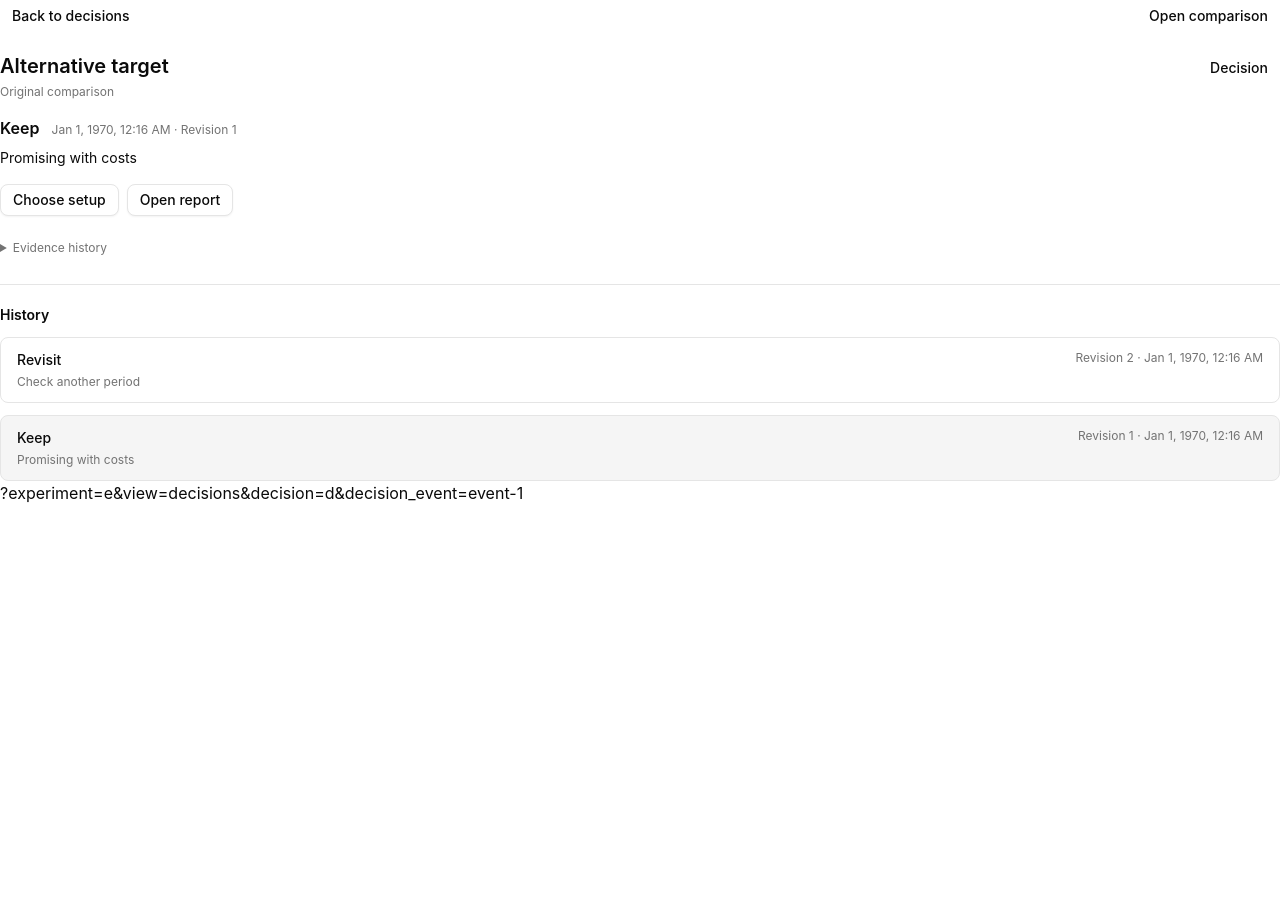
it: saved decisions and exact history › selects the new saved revision immediately while preserving its prior history
Click the button with aria-label "Decision for Alternative target" at (1239, 68), box [1198, 52, 1279, 84]
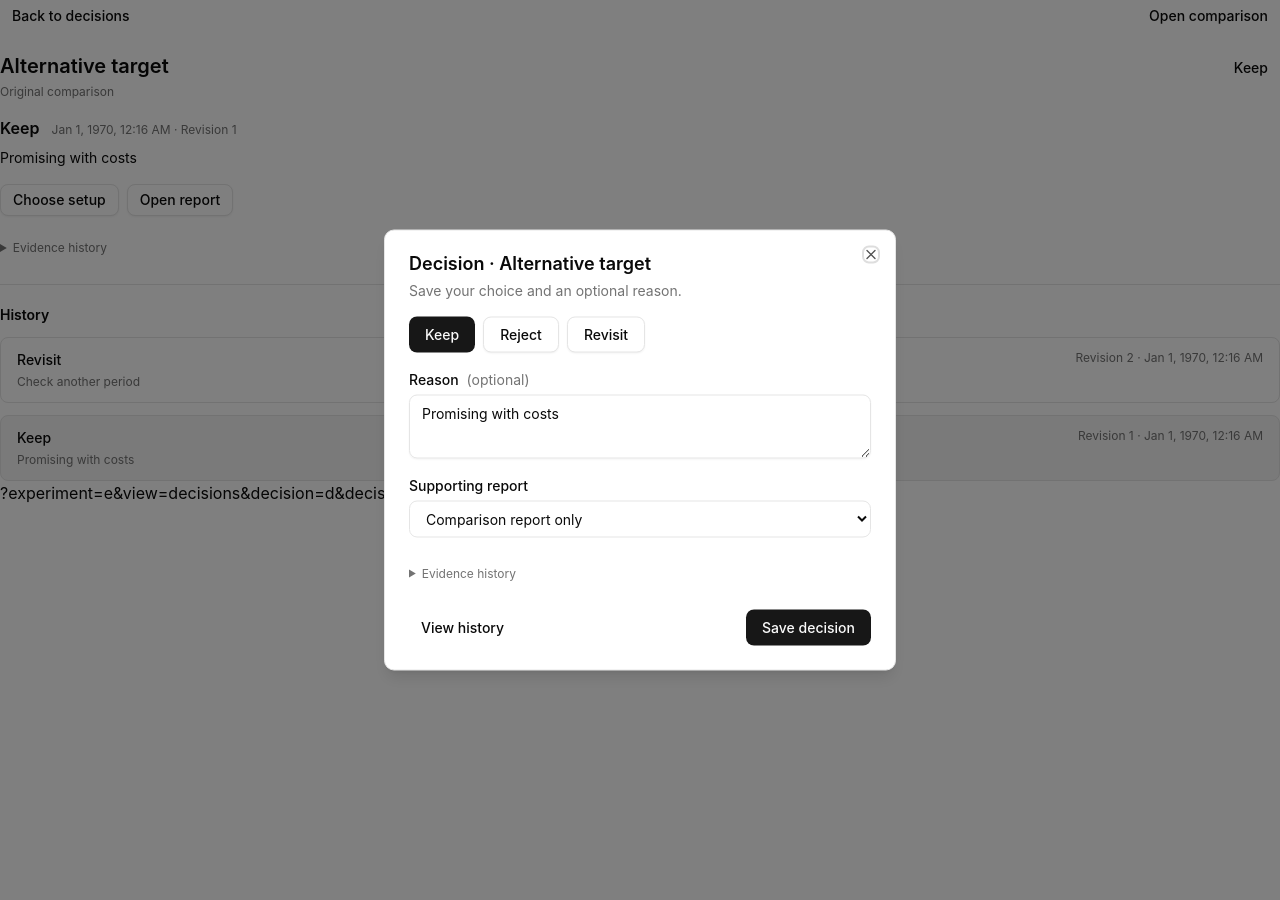
Click the button "Revisit" at (606, 334), box [567, 316, 645, 352]
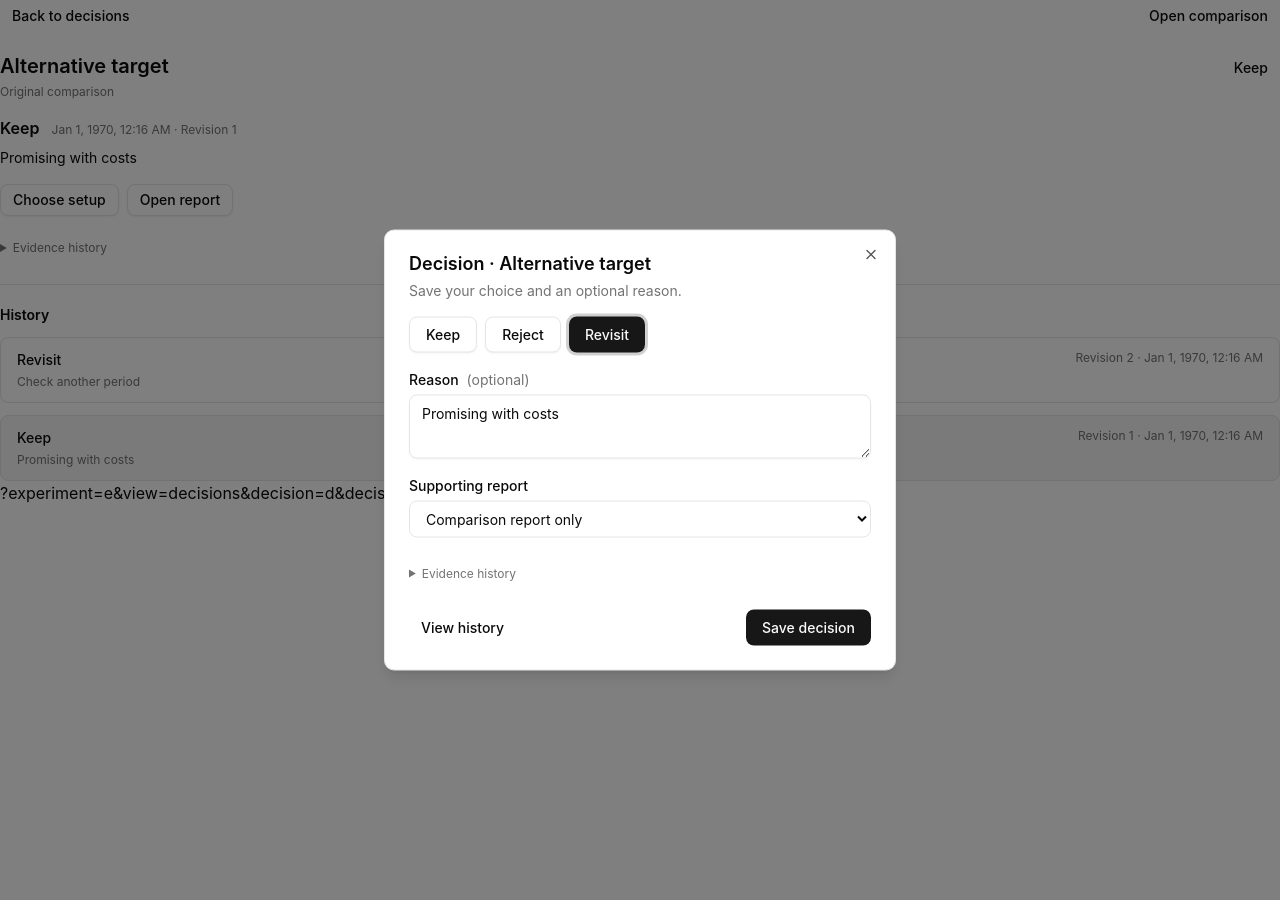
Replace the text in the text box labelled "Reason (optional)" with "Check another period" at (640, 426), box [409, 394, 871, 458]
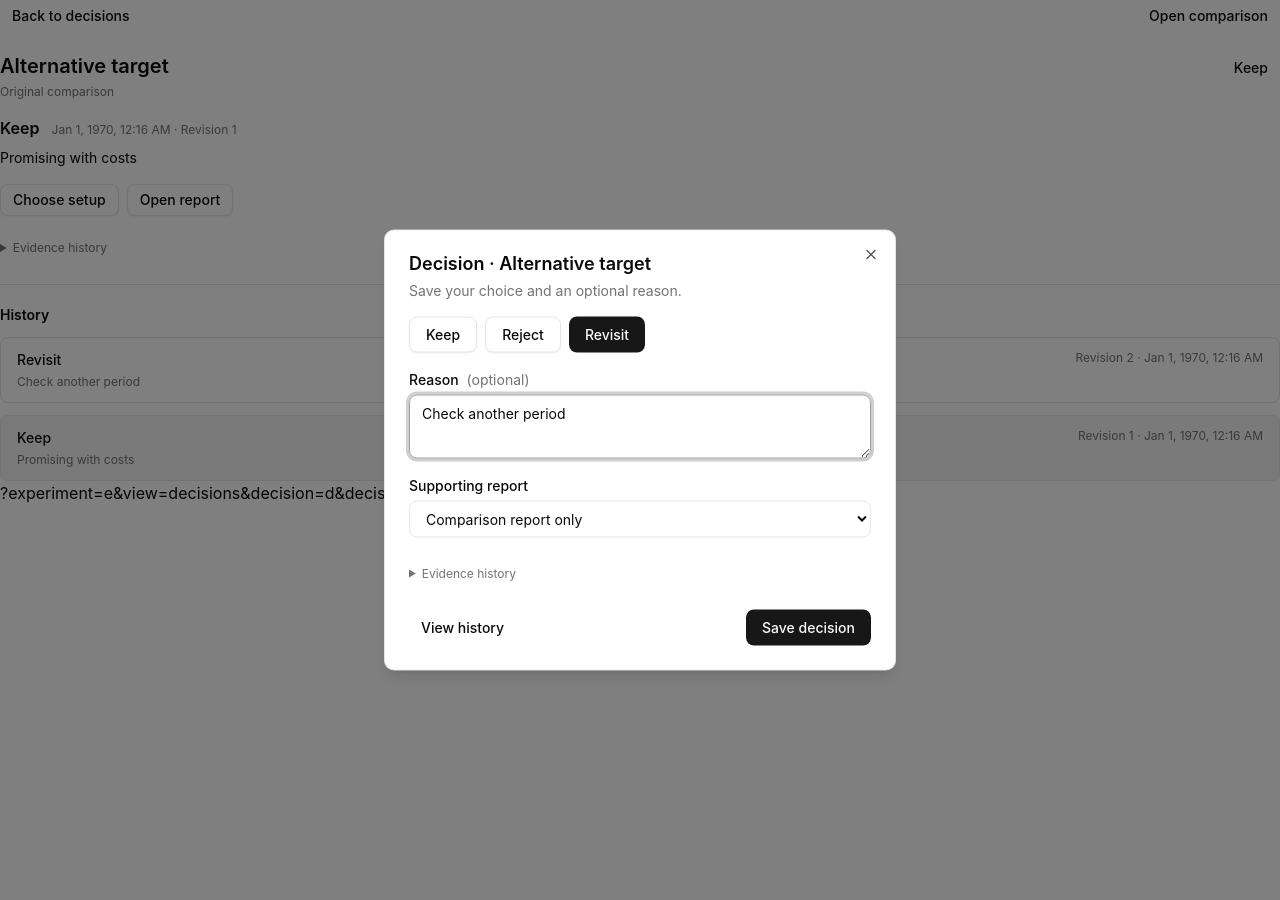
Click the button "Save decision" at (808, 628), box [746, 610, 871, 646]
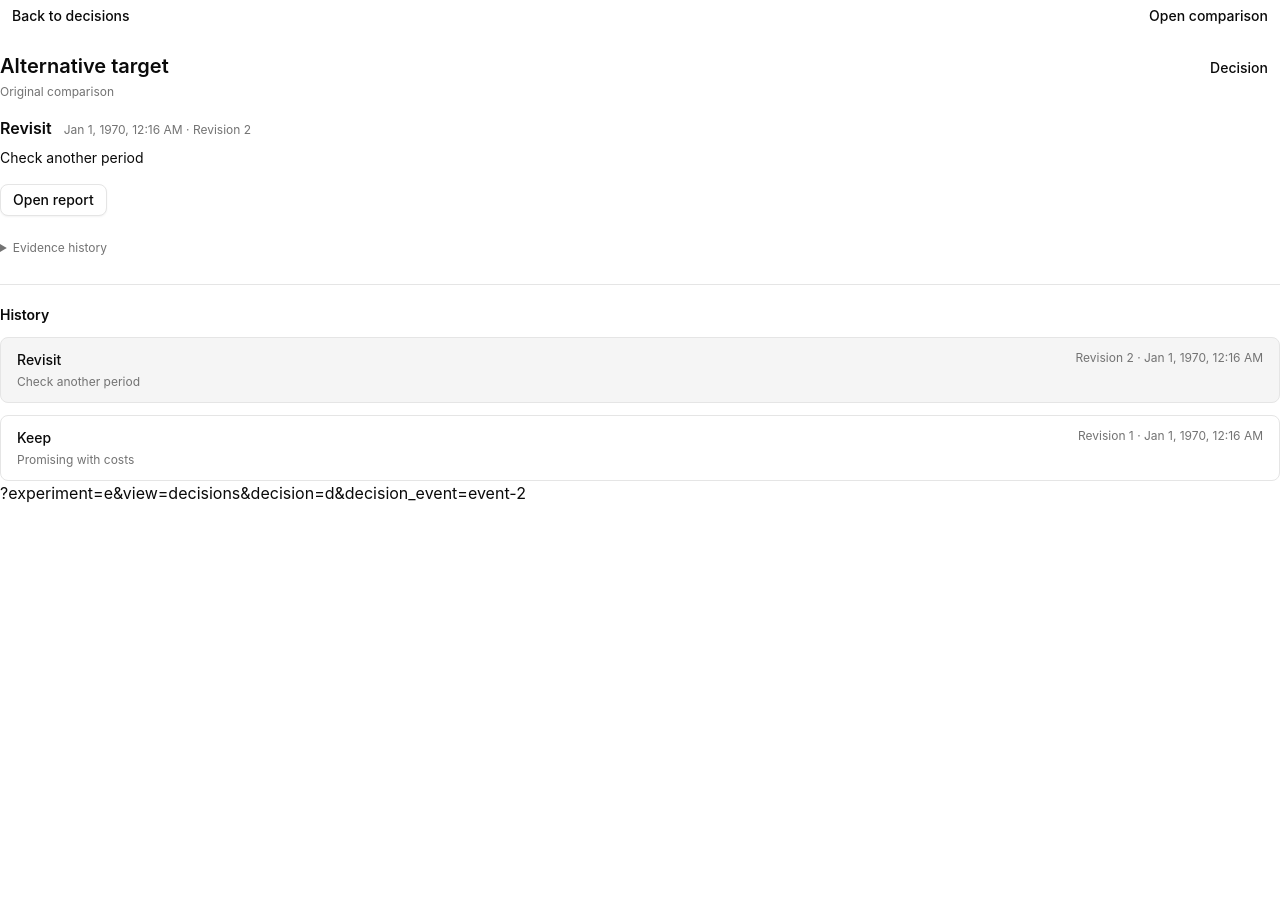
Expected: the button with aria-label "Open revision 1" is shown, [0, 415, 1279, 481]
Expected: the text "Check another period" below "· Revision" is shown, [0, 149, 144, 166]
Expected: the text named "Location" shows "decision_event=event-2", [0, 483, 526, 503]
